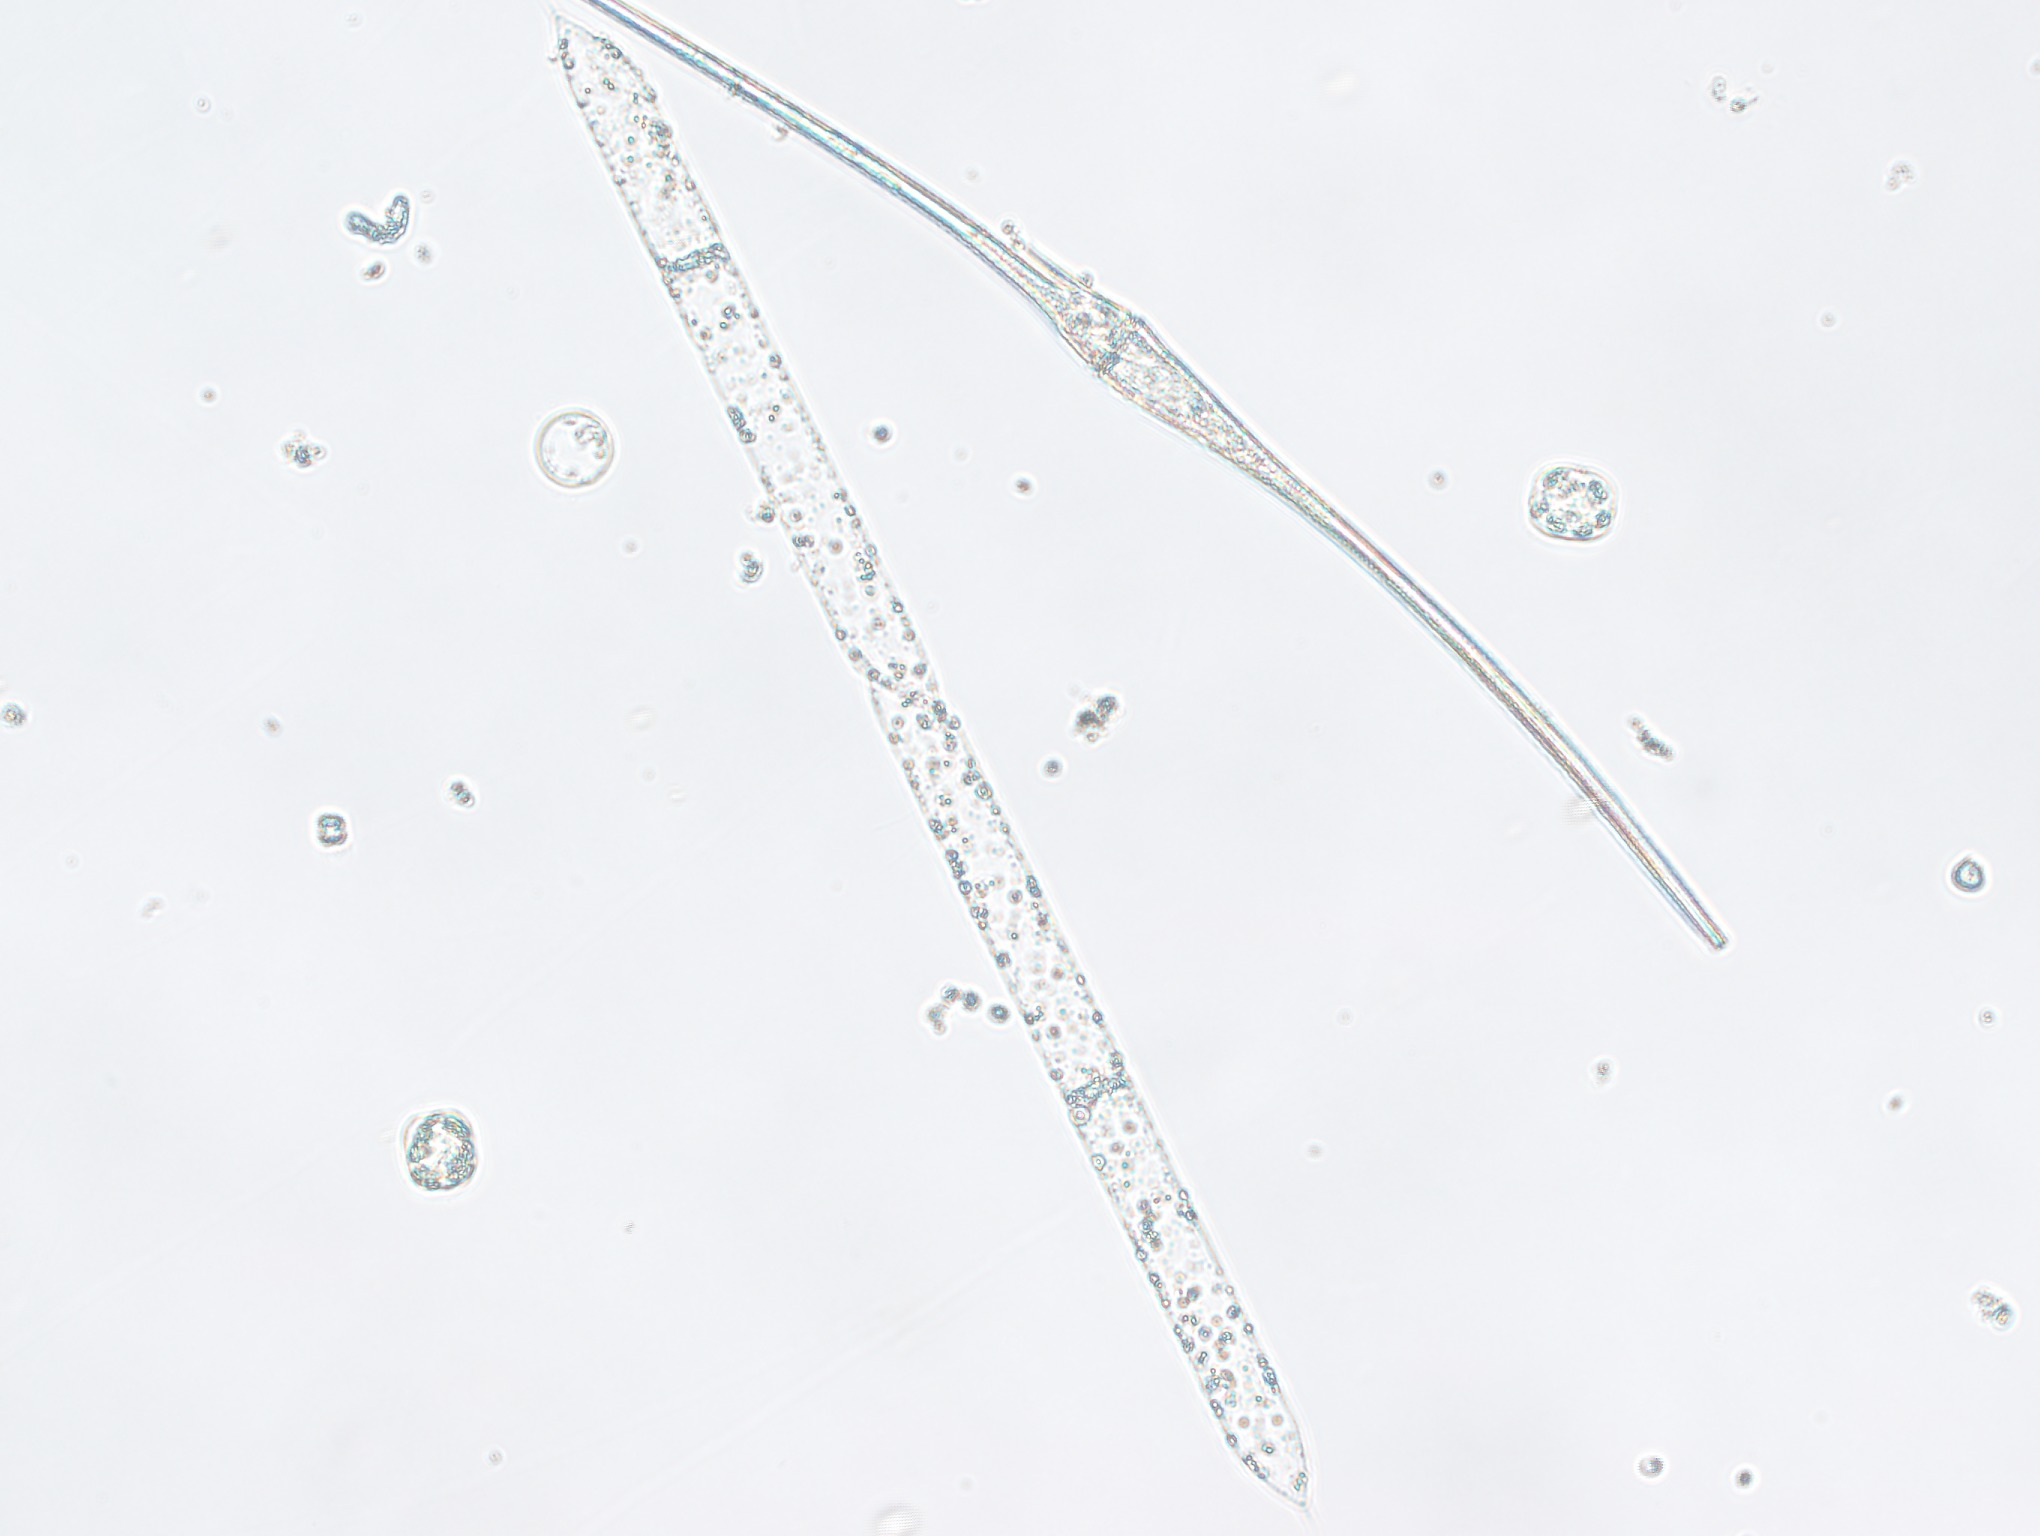ceratium fusus: (579, 2, 1746, 995)
rhizosolenia: (527, 11, 1327, 1521)
